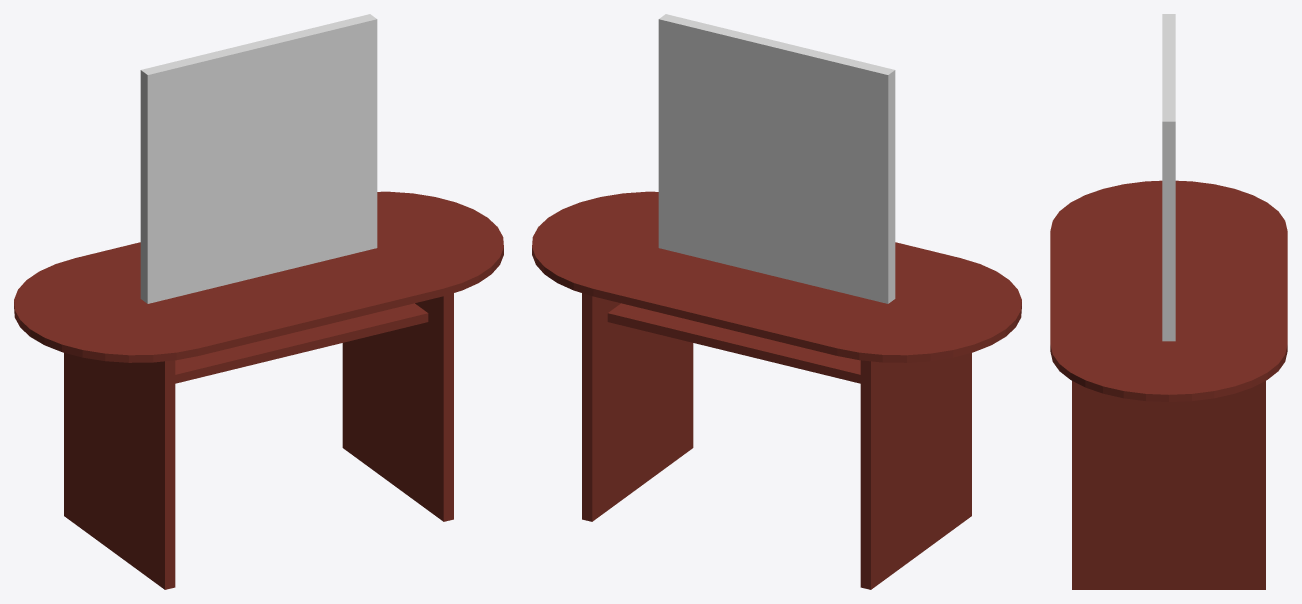
Rendered from CityHallTable1.fbx.
The picture shows the model from 3 angles, left to right: view 1: azimuth 30°, elevation 25°; view 2: azimuth 150°, elevation 25°; view 3: azimuth 270°, elevation 25°; orthographic projection. The views are drawn at different scales.
Parts seen in each view (by area): view 1: Table1Panel, Table1, Cylinder.001; view 2: Table1Panel, Table1, Cylinder.001; view 3: Cylinder.001, Table1, Table1Panel.
Part boxes in pixels (x1,y1,x2,y2): Table1Panel: (140, 14, 377, 303); Table1: (64, 293, 453, 589); Cylinder.001: (14, 191, 503, 362); Table1Panel: (658, 14, 895, 303); Table1: (582, 293, 971, 589); Cylinder.001: (532, 191, 1021, 362); Cylinder.001: (1050, 180, 1287, 401); Table1: (1072, 381, 1265, 589); Table1Panel: (1162, 14, 1175, 341).
Size of the model in its own units: 188 by 186 by 87.88.
